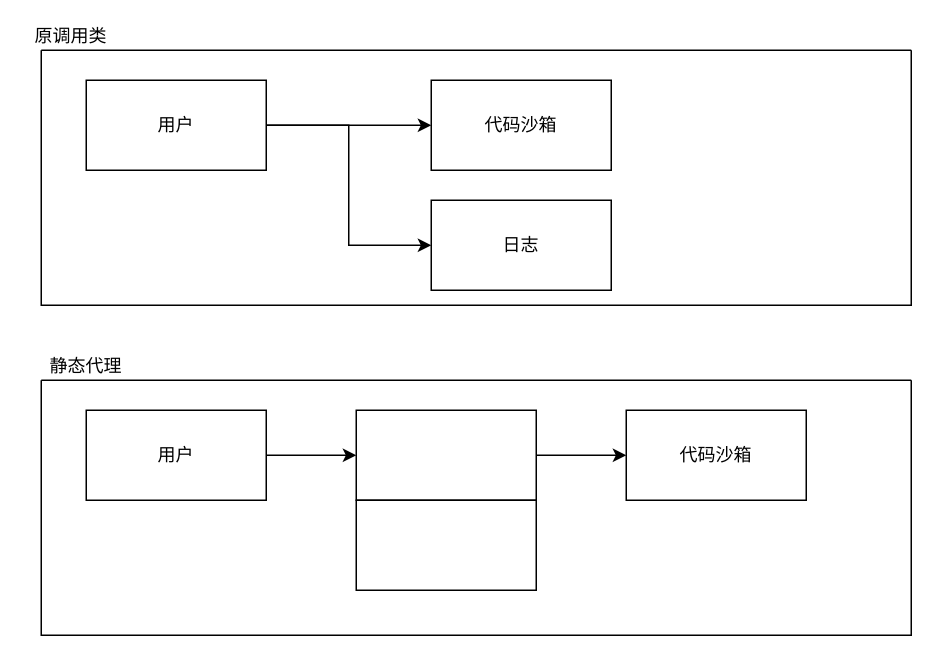
Some shapes in this 938 by 662 pixel diagram are drawn without their labels. The centre of each missing label's shape, as x and y in pixels:
"代理类" goes at [445,454].
"附带的功能拓展" goes at [445,544].
